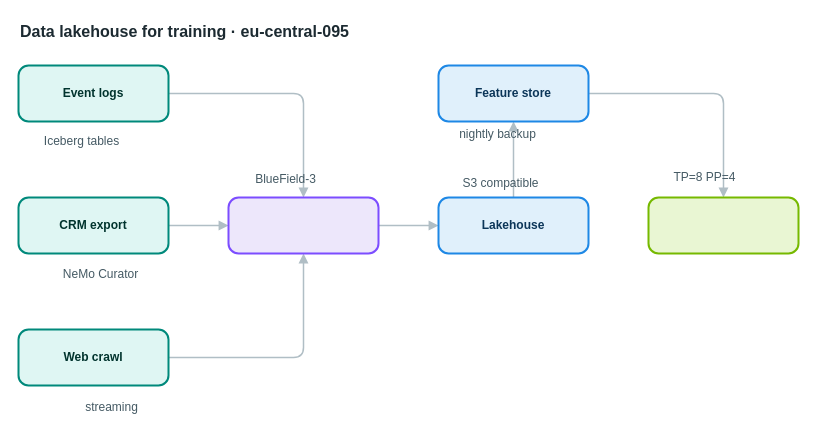
Some shapes in this 816 by 434 pixel diagram are drawn without their labels. Each missing label, with the box of its shape:
Stream bus: (227, 196, 379, 254)
Training jobs: (647, 196, 799, 254)
